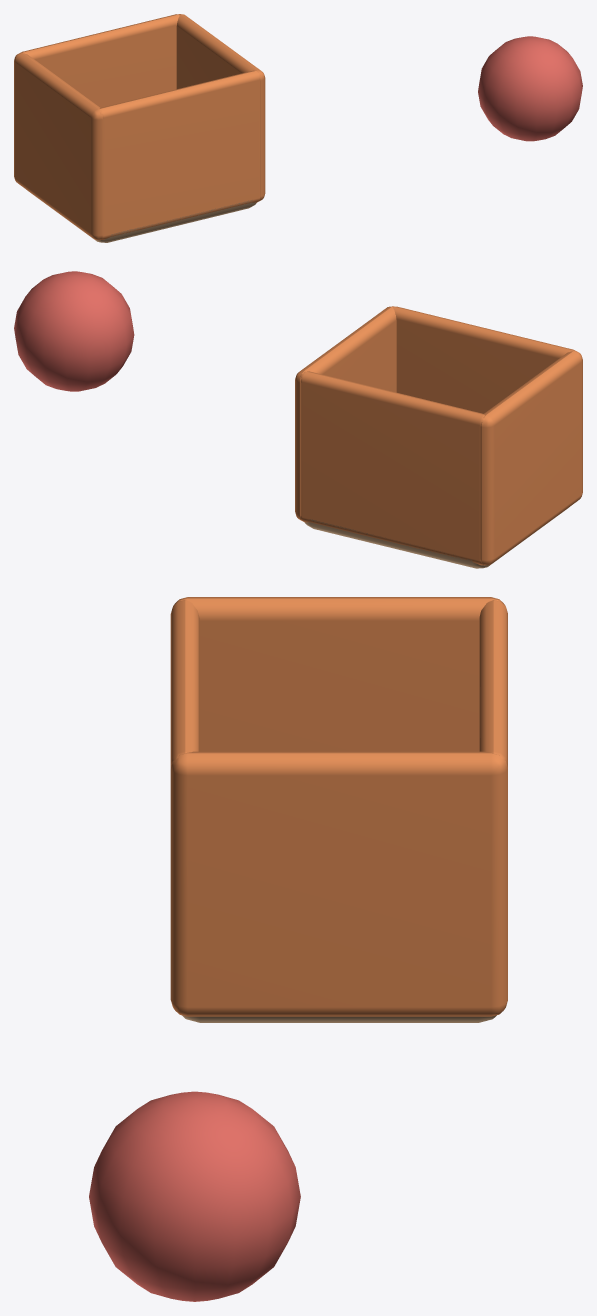
Rendered from ava-position-far.glb.
The picture shows the model from 3 angles, top to bottom: view 1: azimuth 30°, elevation 25°; view 2: azimuth 150°, elevation 25°; view 3: azimuth 270°, elevation 25°; orthographic projection. The views are drawn at different scales.
Parts seen in each view (by area): view 1: box side.010, box side.008, box side.011, location ball, box side.009, box floor.002; view 2: box side.011, box side.008, box side.010, location ball, box side.009, box floor.002; view 3: box side.009, box side.008, location ball, box side.010, box side.011, box floor.002.
Boxes of the visible parts, x1,y1,x2,y2 form: box side.010: (99, 70, 260, 239); box side.008: (14, 52, 103, 240); box side.011: (21, 14, 179, 107); location ball: (478, 36, 582, 141); box side.009: (176, 14, 265, 200); box floor.002: (27, 190, 256, 242); box side.011: (300, 371, 484, 565); box side.008: (480, 350, 582, 565); box side.010: (393, 306, 574, 413); location ball: (14, 271, 134, 391); box side.009: (295, 306, 396, 520); box floor.002: (304, 508, 567, 568); box side.009: (170, 751, 507, 1016); box side.008: (173, 597, 505, 751); location ball: (89, 1091, 300, 1301); box side.010: (170, 600, 199, 768); box side.011: (479, 600, 507, 767); box floor.002: (182, 1015, 496, 1022).
Bounding box in the file's own units: 2.34 × 0.63 × 0.87.
